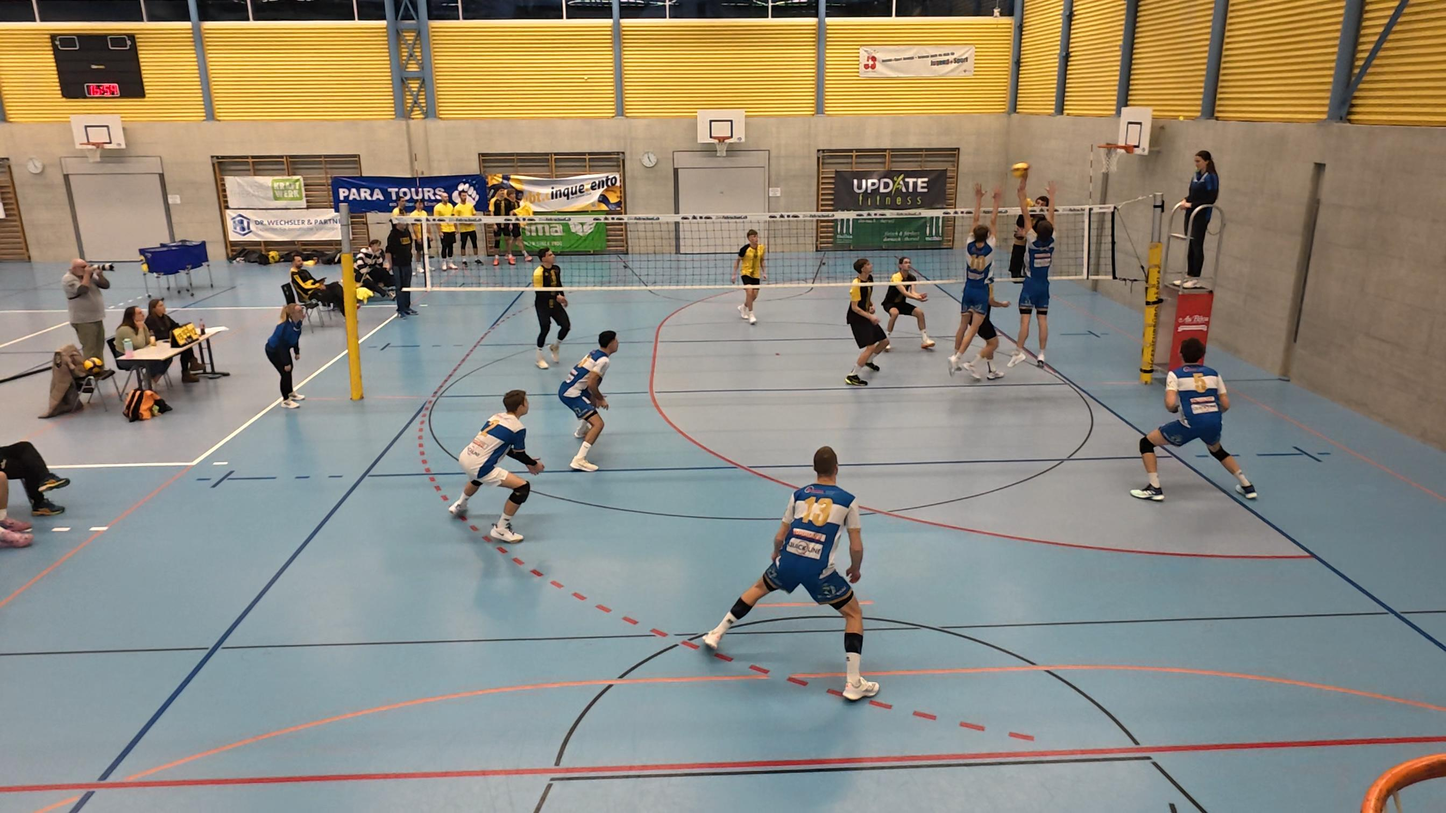Attack: (1006, 165, 1054, 281)
Block: (948, 184, 1005, 381), (1012, 186, 1062, 372)
Player: (701, 446, 878, 701), (1131, 341, 1257, 502), (448, 389, 538, 543), (558, 329, 620, 471), (844, 260, 890, 386), (531, 249, 571, 375), (885, 256, 938, 351), (973, 286, 1011, 380), (736, 231, 764, 325)
ball: (1012, 162, 1030, 176)
